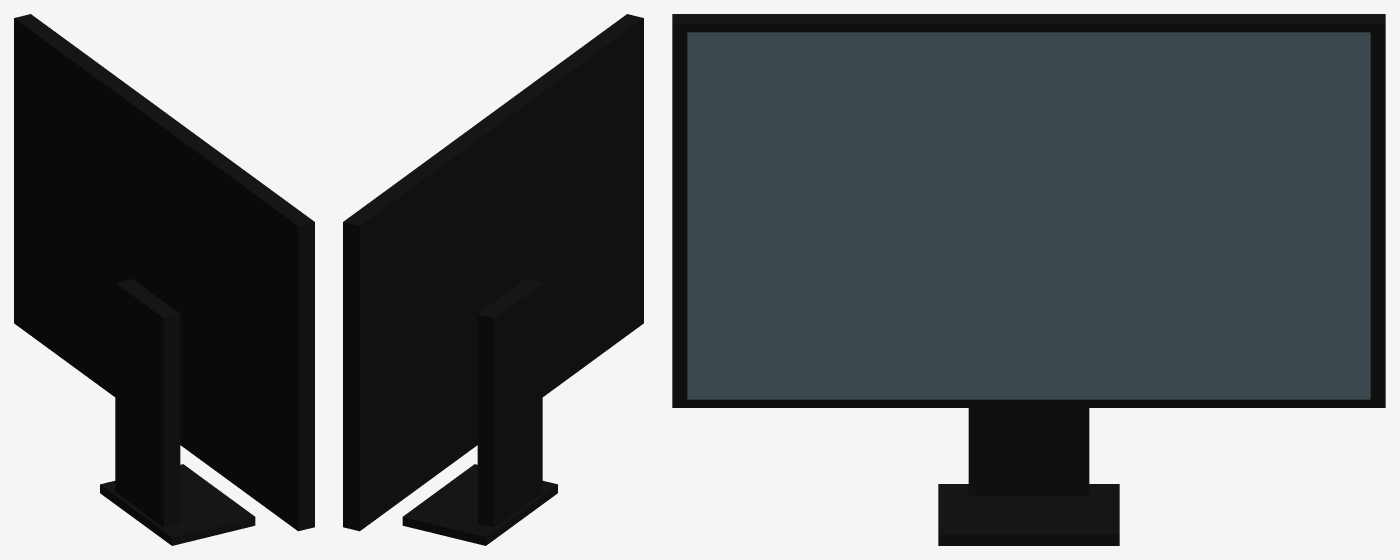
Rendered from Monitor 22p.fbx.
The picture shows the model from 3 angles, left to right: view 1: azimuth 30°, elevation 25°; view 2: azimuth 150°, elevation 25°; view 3: azimuth 270°, elevation 25°; orthographic projection. The views are drawn at different scales.
Parts seen in each view (by area): view 1: Monitor 22p; view 2: Monitor 22p; view 3: Monitor 22p.
Boxes of the visible parts, x1,y1,x2,y2 form: Monitor 22p: [14, 14, 314, 545]; Monitor 22p: [343, 14, 643, 545]; Monitor 22p: [672, 14, 1385, 545].
Bounding box in the file's own units: 10 × 45 × 59.
